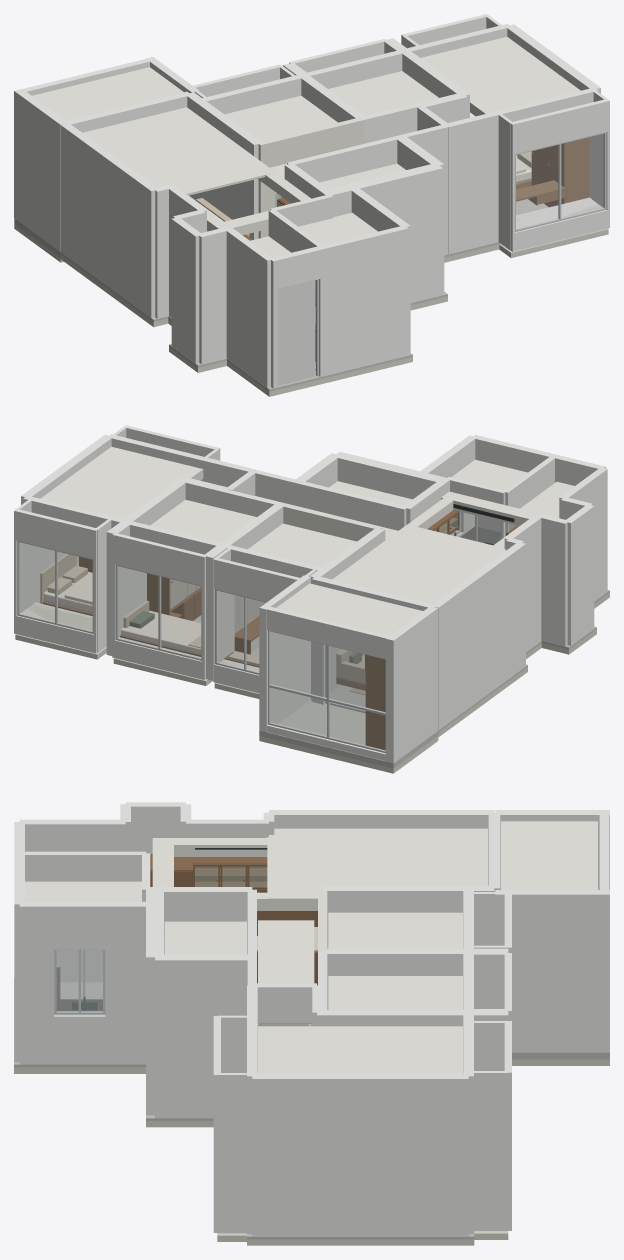
Rendered from MYM-04-全景修正软装.glb.
3 views of the same model, one above another, from view 1: azimuth 30°, elevation 25°; view 2: azimuth 150°, elevation 25°; view 3: azimuth 270°, elevation 25° (orthographic). The views are drawn at different scales.
Parts seen in each view (by area): view 1: W-living-west-jamb-0, W-kitchen-exterior-south-jamb-0, C-panel-living, W-bay-master-bottom-room-jamb-0, C-panel-master, W-balcony-left-jamb-0, W-entry-west-jamb-0, W-bathroom-south-jamb-3, C-panel-balcony, W-west-niche-jamb-0, D-entry-leaf, W-west-return-south-jamb-0 (+56 smaller); view 2: W-living-west-jamb-0, C-panel-living, W-balcony-left-jamb-0, C-panel-master, WIN-balcony-glass-b, WIN-balcony-glass-a, W-balcony-right-jamb-0, C-panel-balcony, W-west-niche-jamb-0, W-west-return-jamb-0, FIN-balcony-pending, W-balcony-front-lintel-2 (+72 smaller); view 3: W-master-east-jamb-0, W-balcony-right-jamb-0, C-panel-living, W-bathroom-east-jamb-0, C-panel-master, W-kitchen-exterior-east-jamb-0, C-panel-balcony, W-kitchen-exterior-east-jamb-3, W-bay-master-top-right-jamb-0, C-panel-bedroom1, W-bay-master-bottom-right-jamb-0, W-entry-west-jamb-0 (+42 smaller).
Part boxes in pixels (x1=…): W-living-west-jamb-0: x1=60, y1=124, x2=157, y2=318; W-kitchen-exterior-south-jamb-0: x1=321, y1=225, x2=408, y2=375; C-panel-living: x1=82, y1=107, x2=275, y2=195; W-bay-master-bottom-room-jamb-0: x1=445, y1=111, x2=499, y2=254; C-panel-master: x1=421, y1=37, x2=580, y2=113; W-balcony-left-jamb-0: x1=14, y1=89, x2=65, y2=251; W-entry-west-jamb-0: x1=226, y1=227, x2=273, y2=387; W-bathroom-south-jamb-3: x1=390, y1=164, x2=442, y2=302; C-panel-balcony: x1=32, y1=67, x2=183, y2=120; W-west-niche-jamb-0: x1=171, y1=217, x2=202, y2=363; D-entry-leaf: x1=277, y1=280, x2=315, y2=385; W-west-return-south-jamb-0: x1=199, y1=227, x2=229, y2=364; W-living-west-jamb-0: x1=432, y1=542, x2=525, y2=730; C-panel-living: x1=332, y1=524, x2=505, y2=603; W-balcony-left-jamb-0: x1=385, y1=606, x2=438, y2=763; C-panel-master: x1=40, y1=446, x2=202, y2=518; WIN-balcony-glass-b: x1=269, y1=632, x2=326, y2=736; WIN-balcony-glass-a: x1=329, y1=646, x2=385, y2=750; W-balcony-right-jamb-0: x1=259, y1=575, x2=310, y2=732; C-panel-balcony: x1=276, y1=583, x2=422, y2=635; W-west-niche-jamb-0: x1=566, y1=504, x2=594, y2=645; W-west-return-jamb-0: x1=538, y1=514, x2=569, y2=646; FIN-balcony-pending: x1=259, y1=699, x2=438, y2=768; W-balcony-front-lintel-2: x1=267, y1=606, x2=389, y2=658; W-master-east-jamb-0: x1=252, y1=1073, x2=468, y2=1236; W-balcony-right-jamb-0: x1=495, y1=890, x2=609, y2=1052; C-panel-living: x1=267, y1=828, x2=487, y2=901; W-bathroom-east-jamb-0: x1=155, y1=954, x2=251, y2=1118; C-panel-master: x1=258, y1=1026, x2=462, y2=1073; W-kitchen-exterior-east-jamb-0: x1=105, y1=901, x2=145, y2=1064; C-panel-balcony: x1=501, y1=821, x2=597, y2=889; W-kitchen-exterior-east-jamb-3: x1=19, y1=901, x2=54, y2=1064; W-bay-master-top-right-jamb-0: x1=468, y1=1071, x2=508, y2=1230; C-panel-bedroom1: x1=328, y1=912, x2=462, y2=948; W-bay-master-bottom-right-jamb-0: x1=217, y1=1073, x2=251, y2=1233; W-entry-west-jamb-0: x1=19, y1=819, x2=125, y2=982.
Size of the model in its own units: 11.08 by 3.2 by 10.08.
